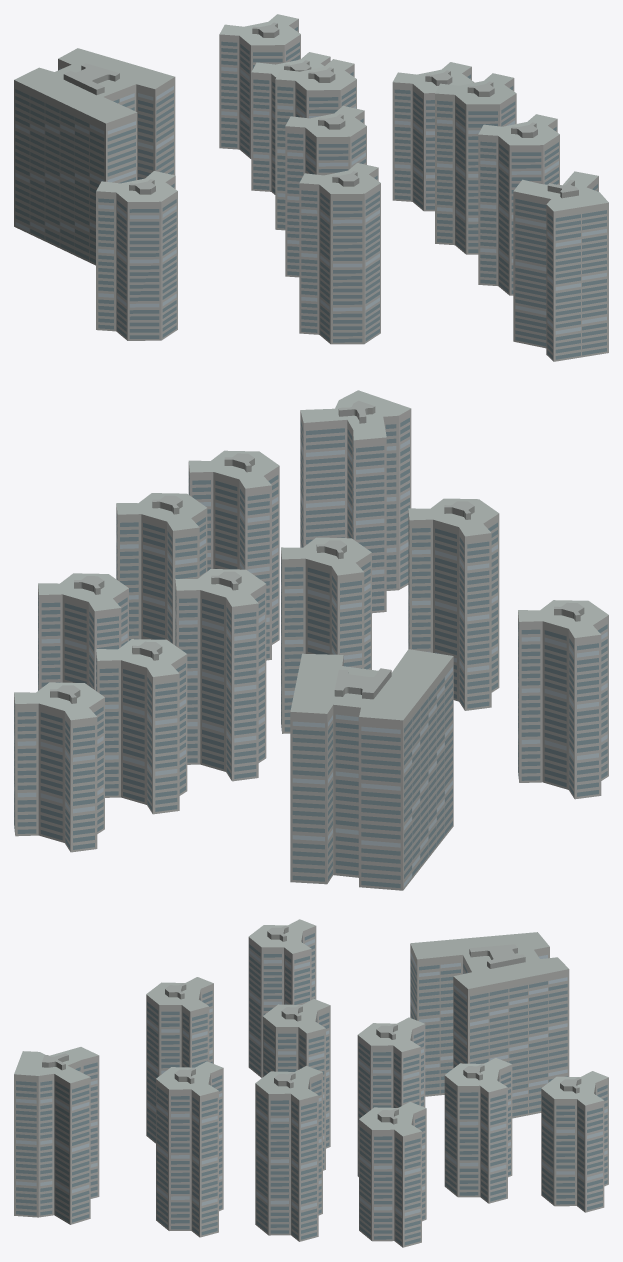
File: apt-a13671209.glb
3 renders of one model, top to bottom at view 1: azimuth 30°, elevation 25°; view 2: azimuth 150°, elevation 25°; view 3: azimuth 270°, elevation 25°, orthographic. The views are drawn at different scales.
Visible parts, largest first — view 1: apt-a13671209; view 2: apt-a13671209; view 3: apt-a13671209.
Part boxes in pixels (x1,y1,x2,y2): apt-a13671209: [14, 14, 608, 361]; apt-a13671209: [14, 390, 608, 890]; apt-a13671209: [14, 919, 608, 1247].
Size of the model in its own units: 197 by 68 by 250.
